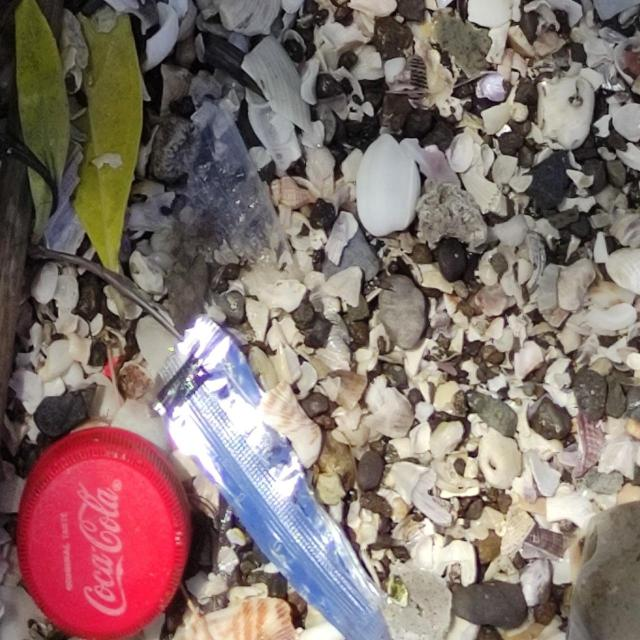plastic_waste: (16, 427, 191, 638)
